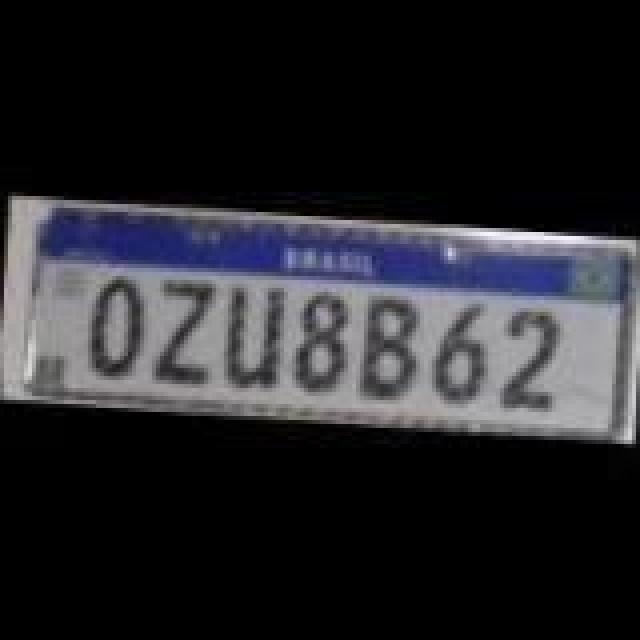2: (490, 302, 566, 410)
6: (422, 300, 498, 408)
8: (290, 288, 366, 400)
B: (350, 290, 426, 402)
O: (74, 274, 150, 374)
U: (214, 278, 290, 398)
Z: (148, 276, 220, 384)
